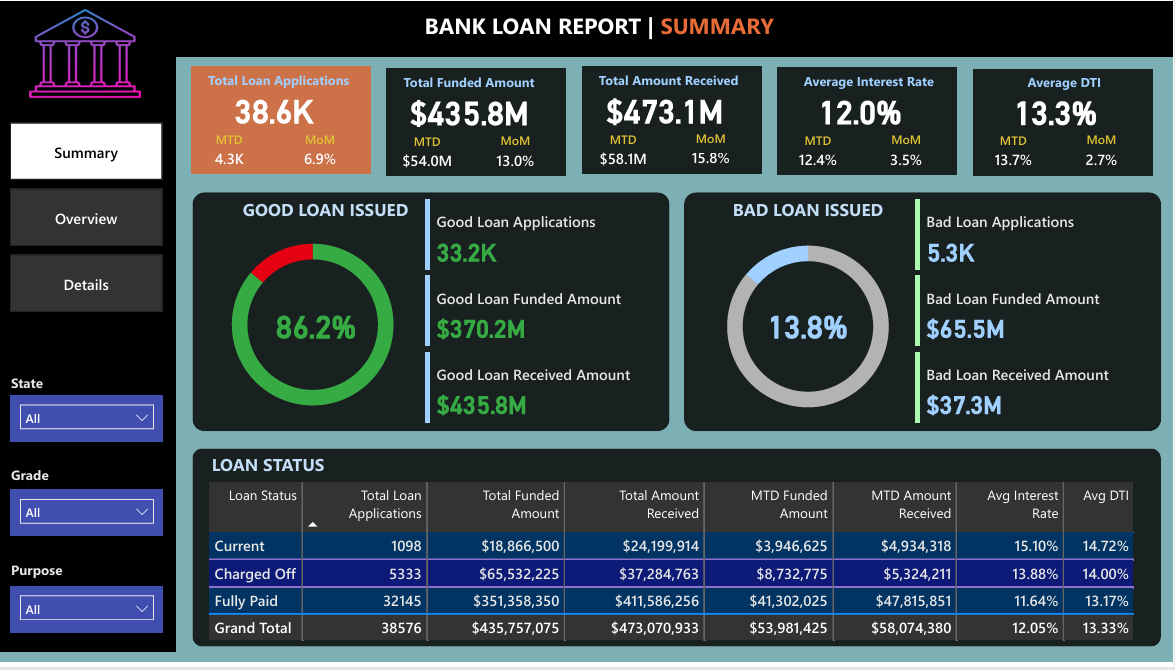

The page's visual inventory and layout, read from the dashboard file:
{"tool":"powerbi","page":{"name":"Summary","canvas":[1280,720],"ordinal":0},"visuals":[{"type":"shape","box":[636.3,71,195.7,116.9],"z":0,"group":"g3"},{"type":"shape","box":[210.4,71.5,195.7,117.1],"z":0,"group":"g1"},{"type":"shape","box":[849.2,72,195.7,117.1],"z":0,"group":"g4"},{"type":"shape","box":[423.4,72.6,195.7,117],"z":0,"group":"g2"},{"type":"shape","box":[1062.2,74.5,195.7,115.6],"z":0,"group":"g5"},{"type":"shape","box":[211.4,487.1,1055.7,215.7],"z":0},{"type":"card","fields":{"Values":["bank_loan_data.Total Amount Received"]},"box":[650.6,92,151.4,49.9],"z":1000,"group":"g3"},{"type":"card","fields":{"Values":["bank_loan_data.Total Loan Applications"]},"box":[224.7,92.5,151.4,50],"z":1000,"group":"g1"},{"type":"card","fields":{"Values":["bank_loan_data.Avg Interest Rate"]},"box":[863.5,93,151.4,50],"z":1000,"group":"g4"},{"type":"card","fields":{"Values":["bank_loan_data.Total Funded Amount"]},"box":[437.7,93.6,151.4,49.9],"z":1000,"group":"g2"},{"type":"card","fields":{"Values":["bank_loan_data.Avg DTI"]},"box":[1076.5,93.8,151.4,49.3],"z":1000,"group":"g5"},{"type":"shape","box":[210.9,208.5,520,260],"z":1000},{"type":"textbox","box":[649.2,71,172.9,35.6],"z":2000,"group":"g3"},{"type":"textbox","box":[223.3,71.5,172.9,35.7],"z":2000,"group":"g1"},{"type":"textbox","box":[862.1,72,172.9,35.7],"z":2000,"group":"g4"},{"type":"textbox","box":[436.3,72.6,172.9,35.7],"z":2000,"group":"g2"},{"type":"textbox","box":[1075.1,73.1,172.9,35.2],"z":2000,"group":"g5"},{"type":"donutChart","fields":{"Category":["bank_loan_data.Good v Bad Loan"],"Y":["bank_loan_data.Total Loan Applications"]},"box":[217.1,237.1,250,230],"z":2000},{"type":"shape","box":[0,0,1280.4,60],"z":3000},{"type":"card","title":"MTD","fields":{"Values":["bank_loan_data.MTD Loan Applications"]},"box":[221.8,141.1,60,42.9],"z":3000,"group":"g1"},{"type":"card","title":"MTD","fields":{"Values":["bank_loan_data.MTD Amount Received"]},"box":[647.7,141.2,67.1,46.8],"z":3000,"group":"g3"},{"type":"card","title":"MTD","fields":{"Values":["bank_loan_data.MTD Avg Interest Rate"]},"box":[860.6,142.2,65.7,46.8],"z":3000,"group":"g4"},{"type":"card","title":"MTD","fields":{"Values":["bank_loan_data.MTD Avg DTI"]},"box":[1073.6,142.4,65.7,46.2],"z":3000,"group":"g5"},{"type":"card","title":"MTD","fields":{"Values":["bank_loan_data.MTD Funded Amount"]},"box":[434.8,142.8,65.7,46.8],"z":3000,"group":"g2"},{"type":"card","title":"MoM","fields":{"Values":["bank_loan_data.MoM Amount Received"]},"box":[746.3,140.5,60,42.8],"z":4000,"group":"g3"},{"type":"card","title":"MoM","fields":{"Values":["bank_loan_data.MoM Avg Interest Rate"]},"box":[959.2,140.7,60,42.4],"z":4000,"group":"g4"},{"type":"card","title":"MoM","fields":{"Values":["bank_loan_data.MoM Avg DTI"]},"box":[1172.2,140.9,60,41.9],"z":4000,"group":"g5"},{"type":"card","title":"MoM","fields":{"Values":["bank_loan_data.MoM Loan Apllication"]},"box":[320.4,141.1,60,42.9],"z":4000,"group":"g1"},{"type":"card","title":"MoM","fields":{"Values":["bank_loan_data.MoM Funded Amount"]},"box":[533.4,141.3,60,42.4],"z":4000,"group":"g2"},{"type":"textbox","box":[251.4,208.6,210,38.6],"z":4000},{"type":"shape","box":[0,44,192.5,665.6],"z":5000},{"type":"card","fields":{"Values":["bank_loan_data.Good Loan %"]},"box":[284.3,327.1,122.9,50],"z":6000},{"type":"textbox","box":[459.5,4.2,403.6,47.5],"z":7000},{"type":"group","id":"g1","title":"Group 1","box":[210.4,71.5,195.7,117.1],"z":8000},{"type":"group","id":"g2","title":"Group 1","box":[423.4,72.6,195.7,117],"z":9000},{"type":"group","id":"g3","title":"Group 1","box":[636.3,71,195.7,117],"z":10000},{"type":"group","id":"g4","title":"Group 1","box":[849.2,72,195.7,117.1],"z":11000},{"type":"group","id":"g5","title":"Group 1","box":[1062.2,73.1,195.7,117.1],"z":12000},{"type":"shape","box":[746.6,208.5,520,260],"z":13000},{"type":"cardVisual","fields":{"Data":["bank_loan_data.Good Loan Applications","bank_loan_data.Good Loan Funded Amount","bank_loan_data.Good Loan Received Amount"]},"box":[460,211.4,254.3,255.7],"z":14000},{"type":"donutChart","fields":{"Category":["bank_loan_data.Good v Bad Loan"],"Y":["bank_loan_data.Total Loan Applications"]},"box":[757.1,238.6,250,230],"z":15000},{"type":"textbox","box":[777.1,208.6,210,38.6],"z":16000},{"type":"card","fields":{"Values":["bank_loan_data.Bad Loan %"]},"box":[820,327.1,122.9,50],"z":17000},{"type":"cardVisual","fields":{"Data":["bank_loan_data.Bad Loan Applications","bank_loan_data.Bad Loan Funded Amount","bank_loan_data.Bad Loan Received Amount"]},"box":[994.3,211.4,254.3,255.7],"z":18000},{"type":"tableEx","fields":{"Values":["bank_loan_data.loan_status","bank_loan_data.Total Loan Applications","bank_loan_data.Total Funded Amount","bank_loan_data.Total Amount Received","bank_loan_data.MTD Funded Amount","bank_loan_data.MTD Amount Received","bank_loan_data.Avg Interest Rate","bank_loan_data.Avg DTI"]},"box":[224.3,518.6,1024.3,184.3],"z":19000},{"type":"textbox","box":[227.1,487.1,210,38.6],"z":20000},{"type":"slicer","fields":{"Values":["bank_loan_data.address_state"]},"box":[12.6,428.7,165.7,51.4],"z":21000},{"type":"textbox","box":[8.3,400.1,58.6,38.6],"z":22000},{"type":"slicer","fields":{"Values":["bank_loan_data.grade"]},"box":[12.6,531.5,165.7,51.4],"z":23000},{"type":"textbox","box":[8.3,500.1,70,38.6],"z":24000},{"type":"slicer","fields":{"Values":["bank_loan_data.purpose"]},"box":[12.6,637.3,165.7,51.4],"z":25000},{"type":"textbox","box":[8.3,604.4,70,38.6],"z":26000},{"type":"pageNavigator","box":[12.4,132,166.4,207.7],"z":27001},{"type":"image","box":[27.5,1.4,132,111.4],"z":27002}]}

Visuals, with their boxes in screenshot pixels (x1, y1, x2, y2), scaled from the page's 1280x720 canvas onto the 1175x670 screenshot:
shape: [584,66,764,175]
shape: [193,67,373,176]
shape: [780,67,959,176]
shape: [389,68,568,176]
shape: [975,69,1155,177]
shape: [194,453,1163,654]
card - bank_loan_data.Total Amount Received: [597,86,736,132]
card - bank_loan_data.Total Loan Applications: [206,86,345,133]
card - bank_loan_data.Avg Interest Rate: [793,87,932,133]
card - bank_loan_data.Total Funded Amount: [402,87,541,134]
card - bank_loan_data.Avg DTI: [988,87,1127,133]
shape: [194,194,671,436]
textbox: [596,66,755,99]
textbox: [205,67,364,100]
textbox: [791,67,950,100]
textbox: [401,68,559,101]
textbox: [987,68,1146,101]
donutChart - bank_loan_data.Good v Bad Loan x bank_loan_data.Total Loan Applications: [199,221,429,435]
shape: [0,0,1174,56]
"MTD" card: [204,131,259,171]
"MTD" card: [595,131,656,175]
"MTD" card: [790,132,850,176]
"MTD" card: [986,133,1046,176]
"MTD" card: [399,133,459,176]
"MoM" card: [685,131,740,171]
"MoM" card: [881,131,936,170]
"MoM" card: [1076,131,1131,170]
"MoM" card: [294,131,349,171]
"MoM" card: [490,131,545,171]
textbox: [231,194,424,230]
shape: [0,41,177,660]
card - bank_loan_data.Good Loan %: [261,304,374,351]
textbox: [422,4,792,48]
"Group 1" group: [193,67,373,176]
"Group 1" group: [389,68,568,176]
"Group 1" group: [584,66,764,175]
"Group 1" group: [780,67,959,176]
"Group 1" group: [975,68,1155,177]
shape: [685,194,1163,436]
cardVisual - bank_loan_data.Good Loan Applications x bank_loan_data.Good Loan Funded Amount: [422,197,656,435]
donutChart - bank_loan_data.Good v Bad Loan x bank_loan_data.Total Loan Applications: [695,222,924,436]
textbox: [713,194,906,230]
card - bank_loan_data.Bad Loan %: [753,304,866,351]
cardVisual - bank_loan_data.Bad Loan Applications x bank_loan_data.Bad Loan Funded Amount: [913,197,1146,435]
tableEx - bank_loan_data.loan_status x bank_loan_data.Total Loan Applications: [206,483,1146,654]
textbox: [208,453,401,489]
slicer - bank_loan_data.address_state: [12,399,164,447]
textbox: [8,372,61,408]
slicer - bank_loan_data.grade: [12,495,164,542]
textbox: [8,465,72,501]
slicer - bank_loan_data.purpose: [12,593,164,641]
textbox: [8,562,72,598]
pageNavigator: [11,123,164,316]
image: [25,1,146,105]
